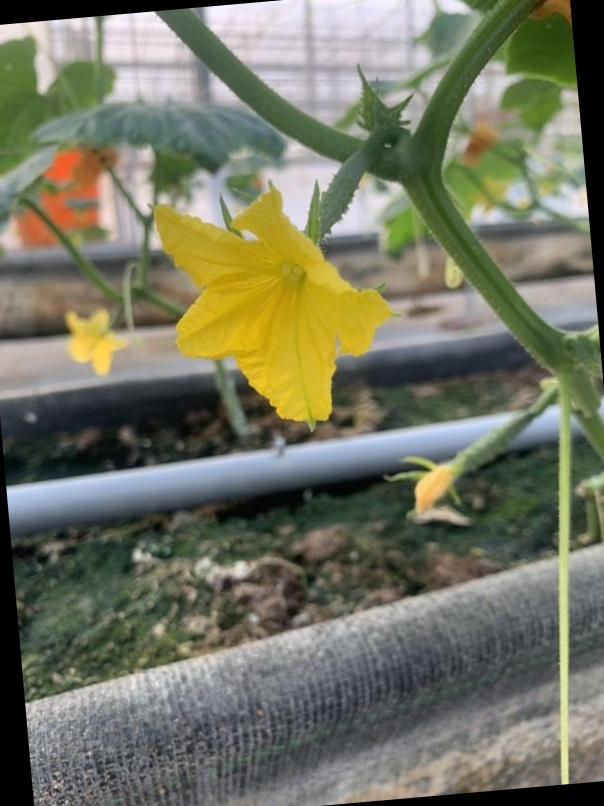flowering: (142, 132, 411, 439)
mature: (142, 133, 416, 441)
